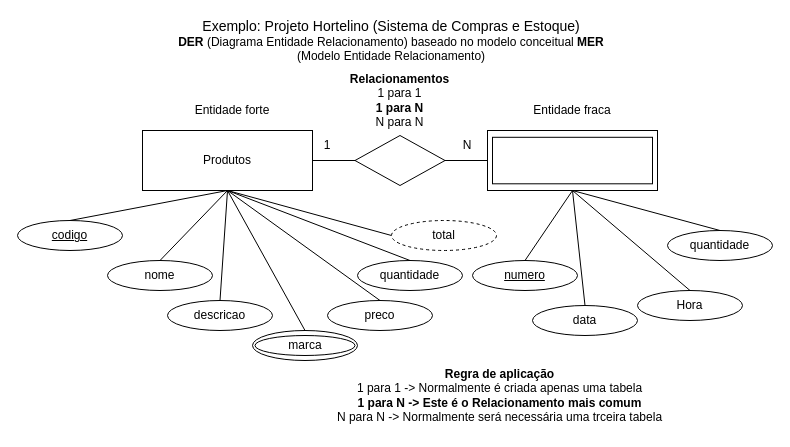
Image size: 790x447. Some labels were removed from this diagram. Here are the shapes that lost their labels. From the top down, the box of each, then its label:
(354, 134, 445, 186): possui
(492, 136, 652, 184): Compras
